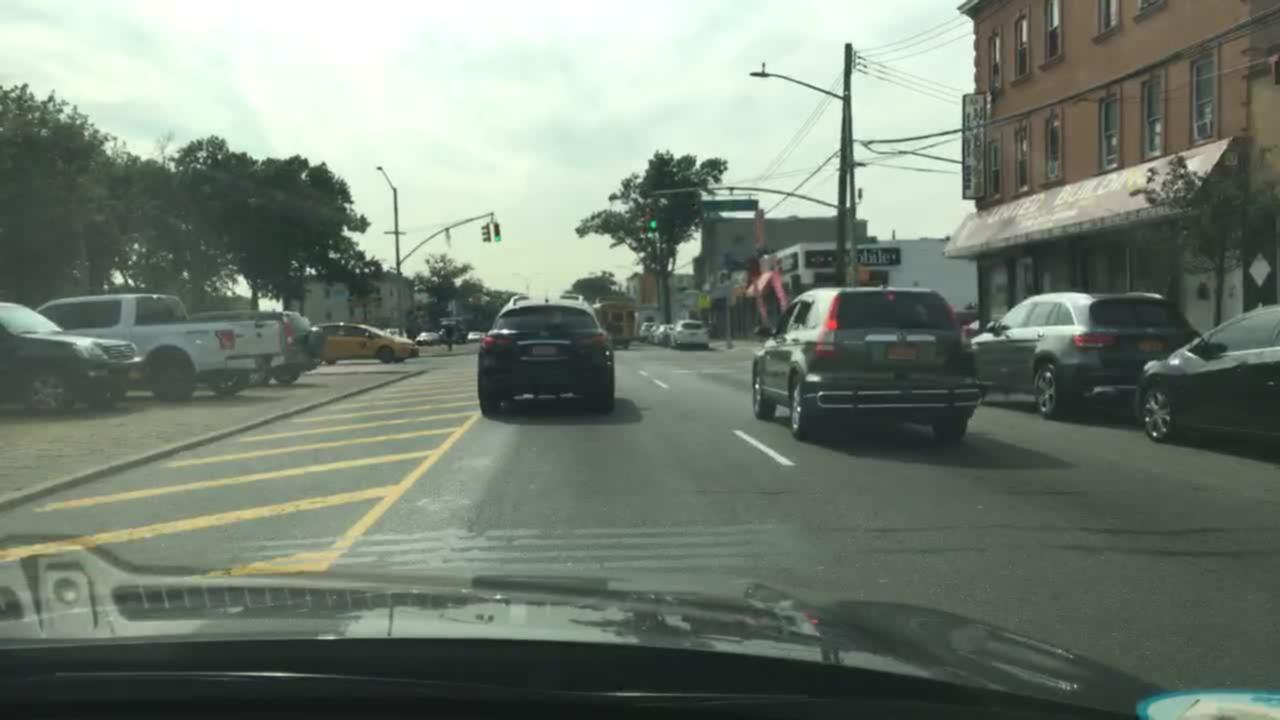Honda: (891, 328, 916, 349)
